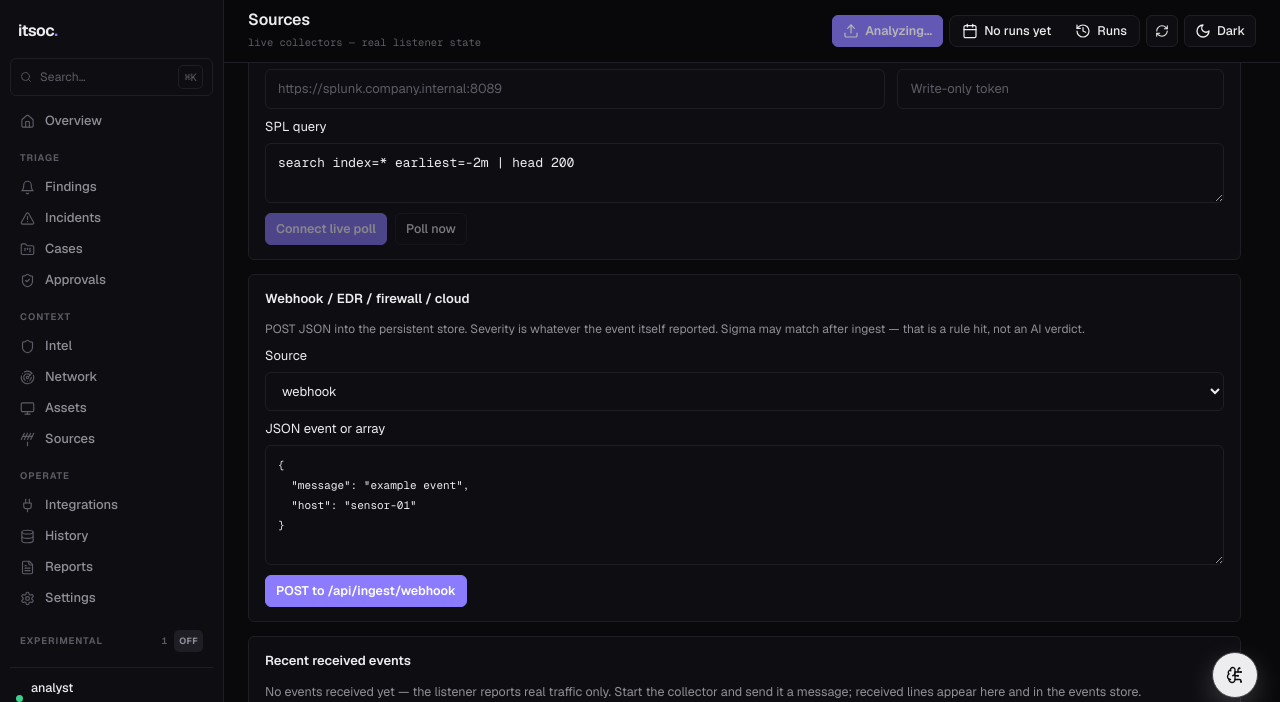
Test: Collectors — syslog control panel › webhook ingest posts JSON to /api/ingest/webhook
This screenshot has width=1280, height=702.
(page scrolled)
Expected: the element with test id "webhook-ingest" is shown, [248,274,1241,622]
Select "edr" in the dropdown named "Ingest source" at (744, 392), box [265,372,1224,411]
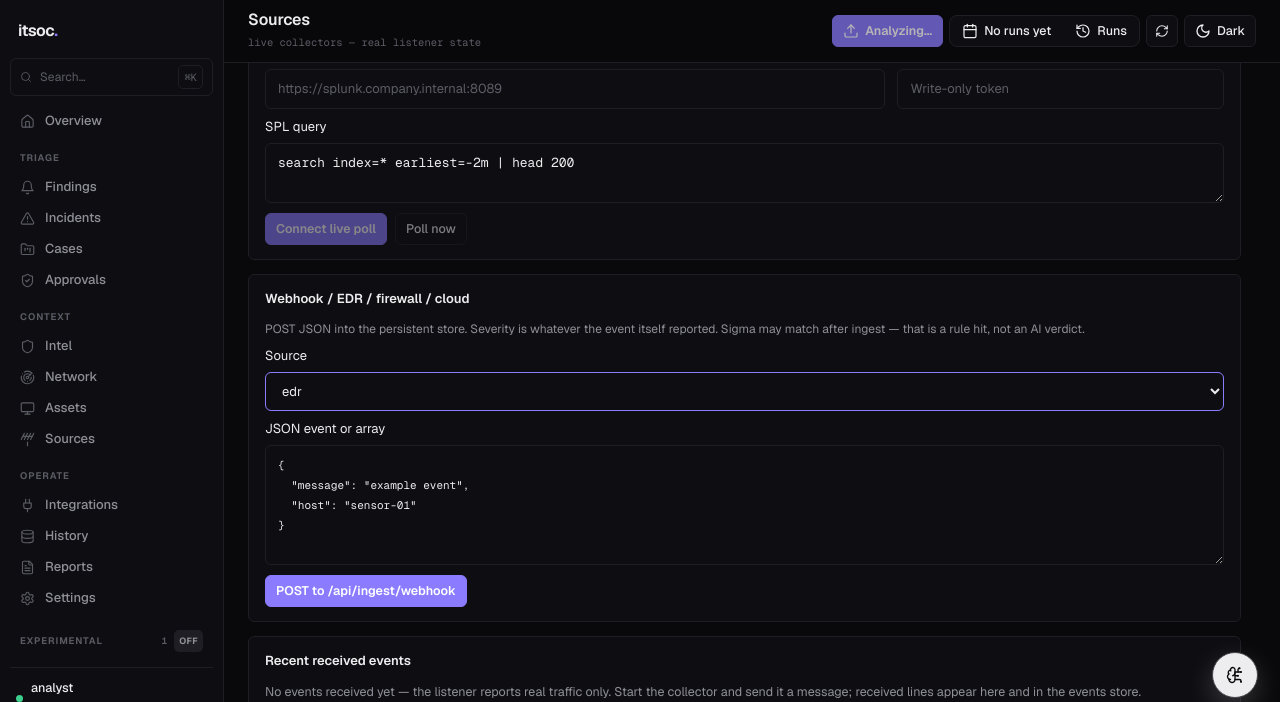
Click the button "POST to /api/ingest/webhook" at (366, 591), box [265,575,467,607]
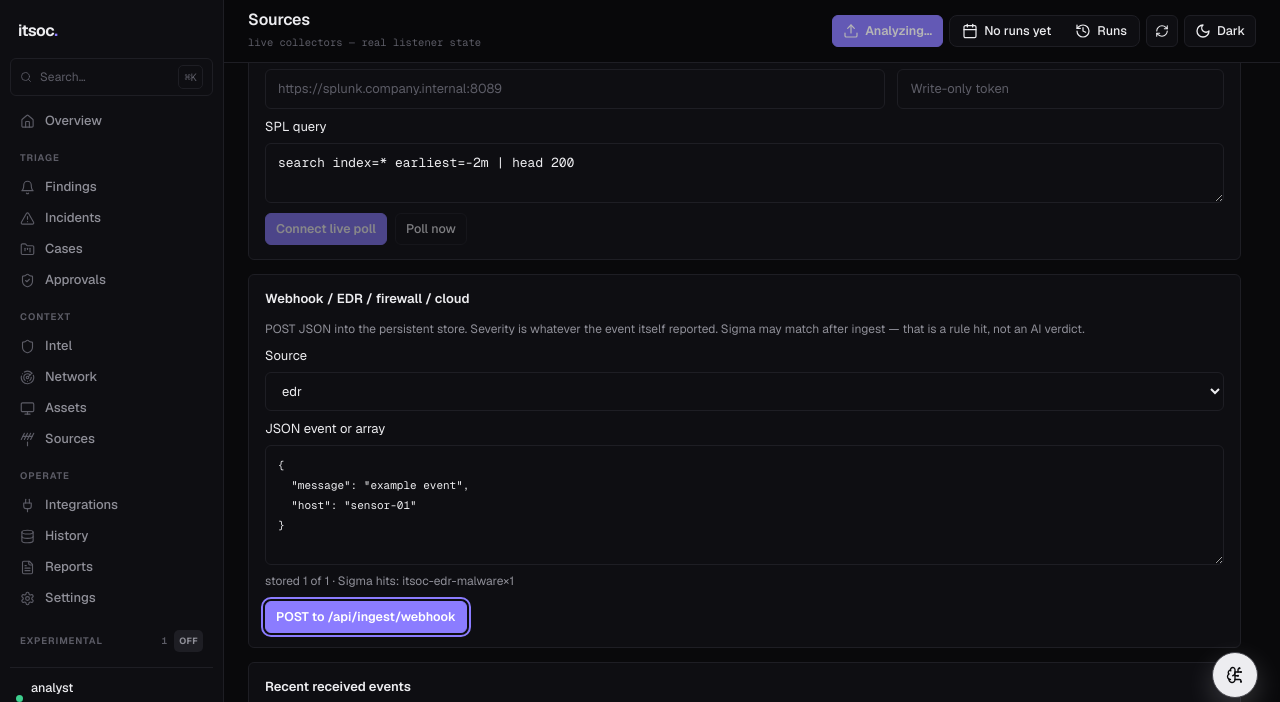
Now the text with test id "ingest-result" shows "stored 1", box [265,573,514,589]
Now the text with test id "ingest-result" shows "itsoc-edr-malware", box [265,573,514,589]
